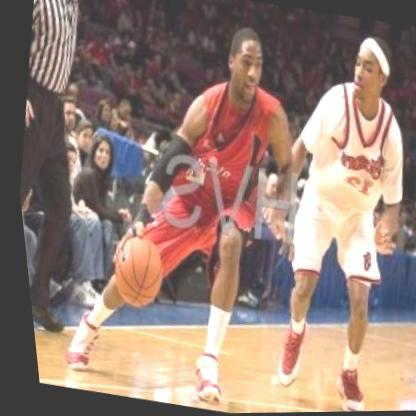basketball: (97, 231, 164, 314)
